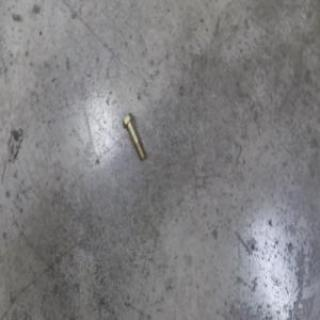Bolttrack_idkeyframe: (124, 112, 148, 162)
